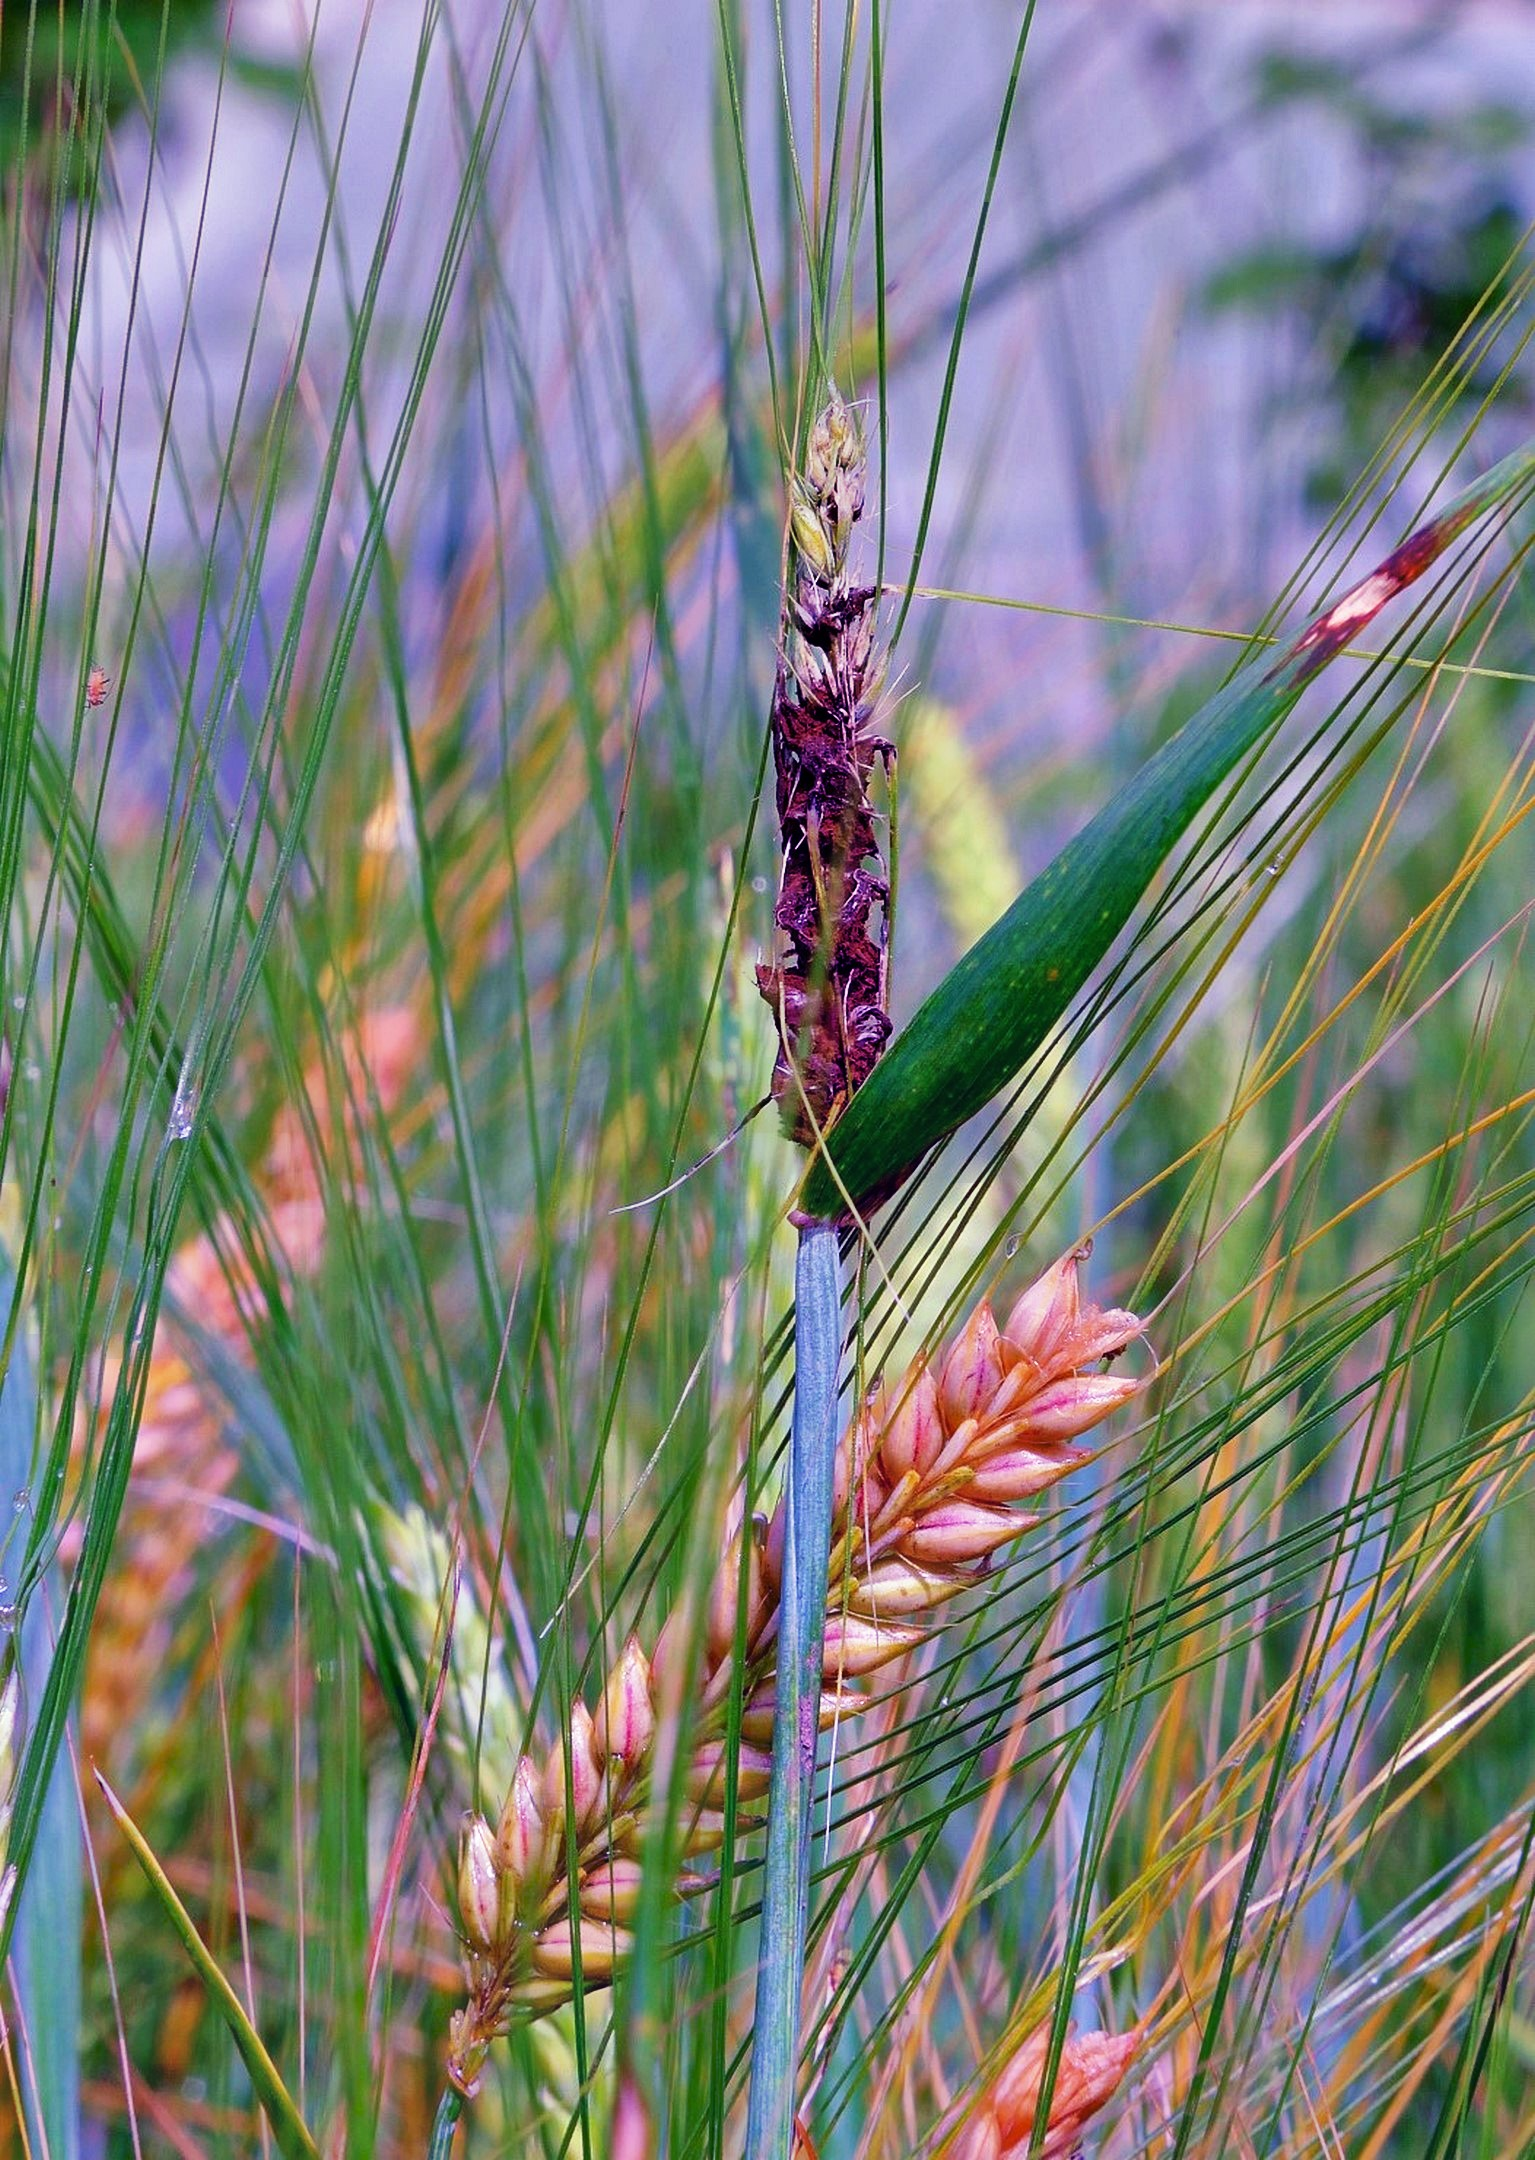Wheat Loose Smut: (704, 562, 939, 1127)
